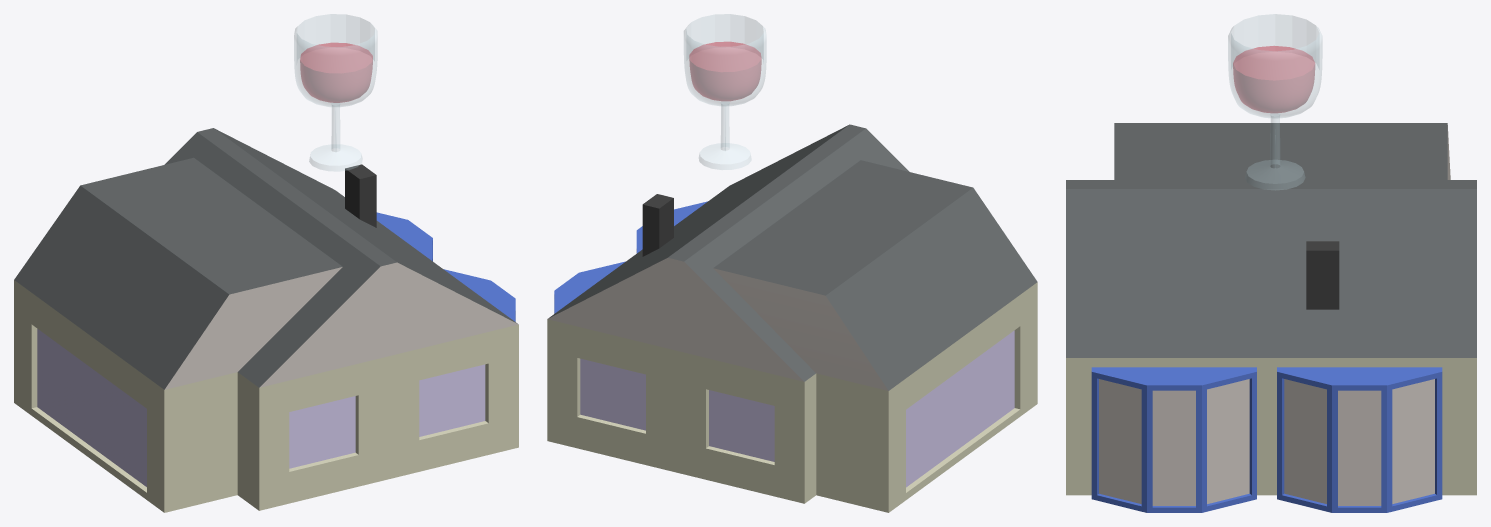
3 views of the same model, side by side, from view 1: azimuth 30°, elevation 25°; view 2: azimuth 150°, elevation 25°; view 3: azimuth 270°, elevation 25° (orthographic). The views are drawn at different scales.
Parts seen in each view (by area): view 1: node_house_2_v_14_-1178, node__14172, node__-1236; view 2: node_house_2_v_14_-1178, node__14172, node__-1236; view 3: node_house_2_v_14_-1178, node__14172, node__-1236.
Boxes of the visible parts, x1,y1,x2,y2 form: node_house_2_v_14_-1178: (14,128,518,512); node__14172: (294,14,377,171); node__-1236: (300,42,372,102); node_house_2_v_14_-1178: (547,124,1037,512); node__14172: (684,14,766,169); node__-1236: (689,41,761,100); node_house_2_v_14_-1178: (1066,123,1476,512); node__14172: (1228,14,1322,190); node__-1236: (1233,46,1314,112).
Size of the model in its own units: 1.45 by 1.4 by 1.26.
